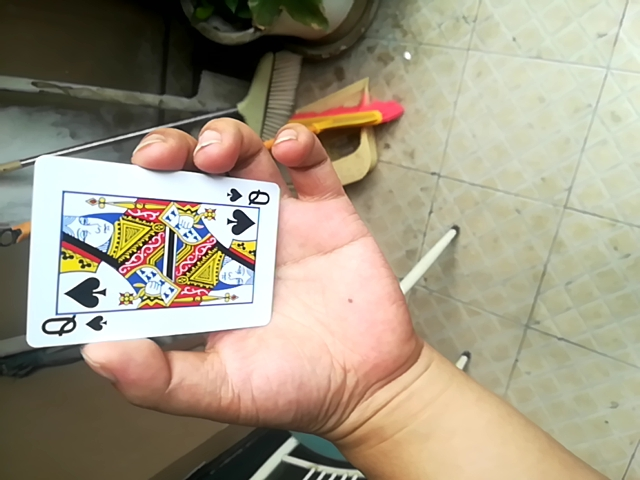ht q: (24, 164, 285, 349)
